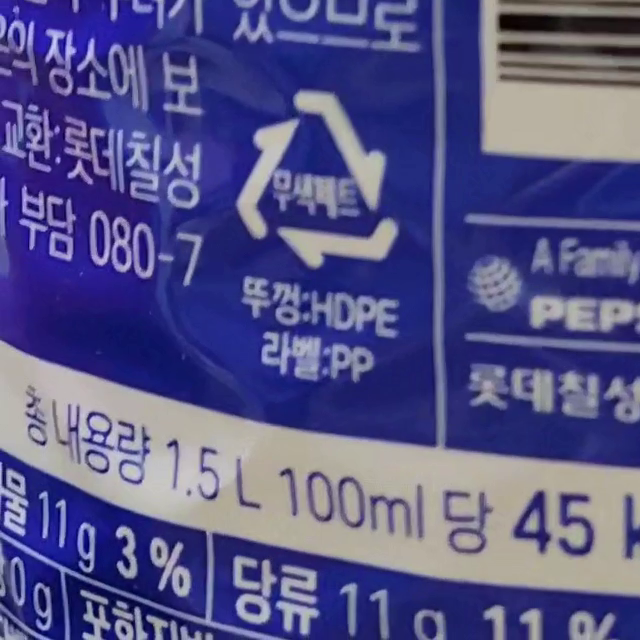ColorlessPet: (238, 90, 396, 269)
